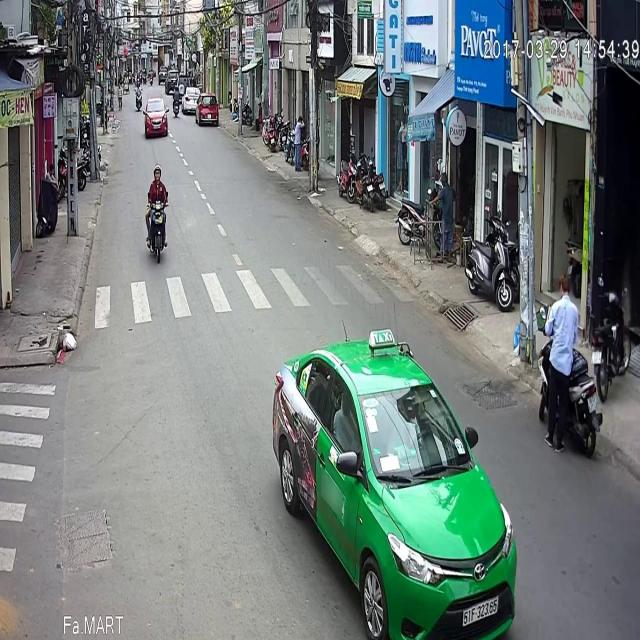car: (272, 268, 516, 609), (143, 37, 169, 79), (194, 34, 218, 68)
motorcycle: (145, 104, 169, 204)
